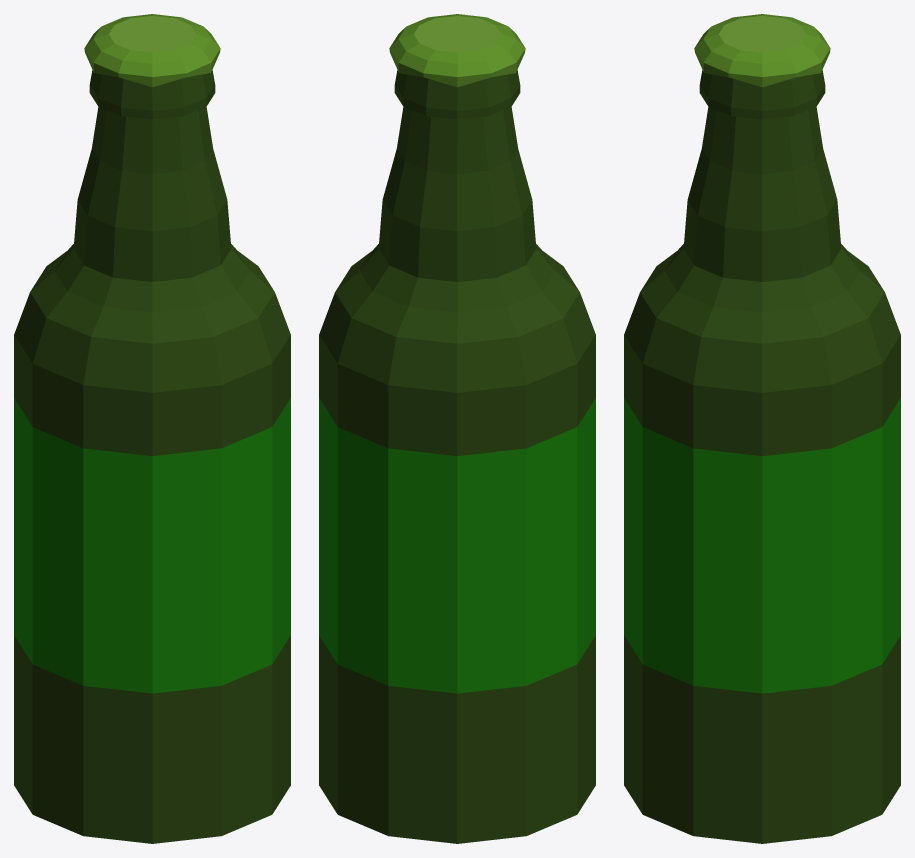
File: BeerBottle.fbx
The picture shows the model from 3 angles, left to right: view 1: azimuth 30°, elevation 25°; view 2: azimuth 150°, elevation 25°; view 3: azimuth 270°, elevation 25°; orthographic projection.
Parts seen in each view (by area): view 1: BeerBottle; view 2: BeerBottle; view 3: BeerBottle.
Boxes of the visible parts, x1=… form: BeerBottle: x1=14, y1=14, x2=290, y2=843; BeerBottle: x1=319, y1=14, x2=595, y2=843; BeerBottle: x1=624, y1=14, x2=900, y2=843.
Size of the model in its own units: 63.65 by 191 by 63.65.
